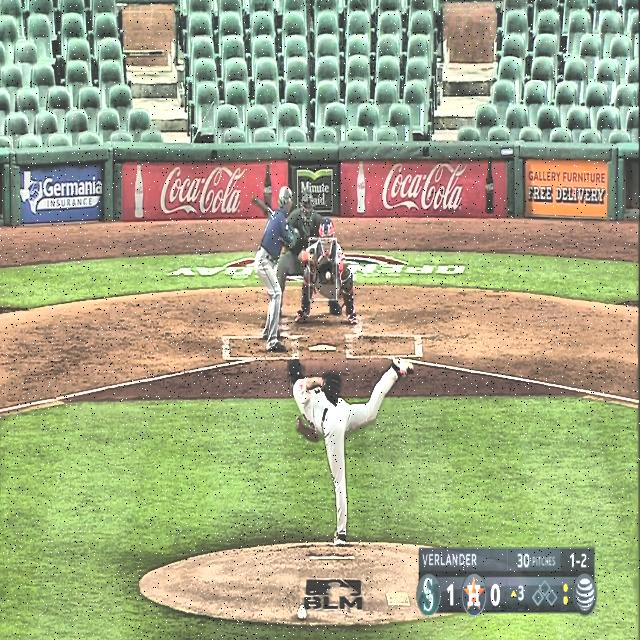baseball: (326, 271, 330, 281)
